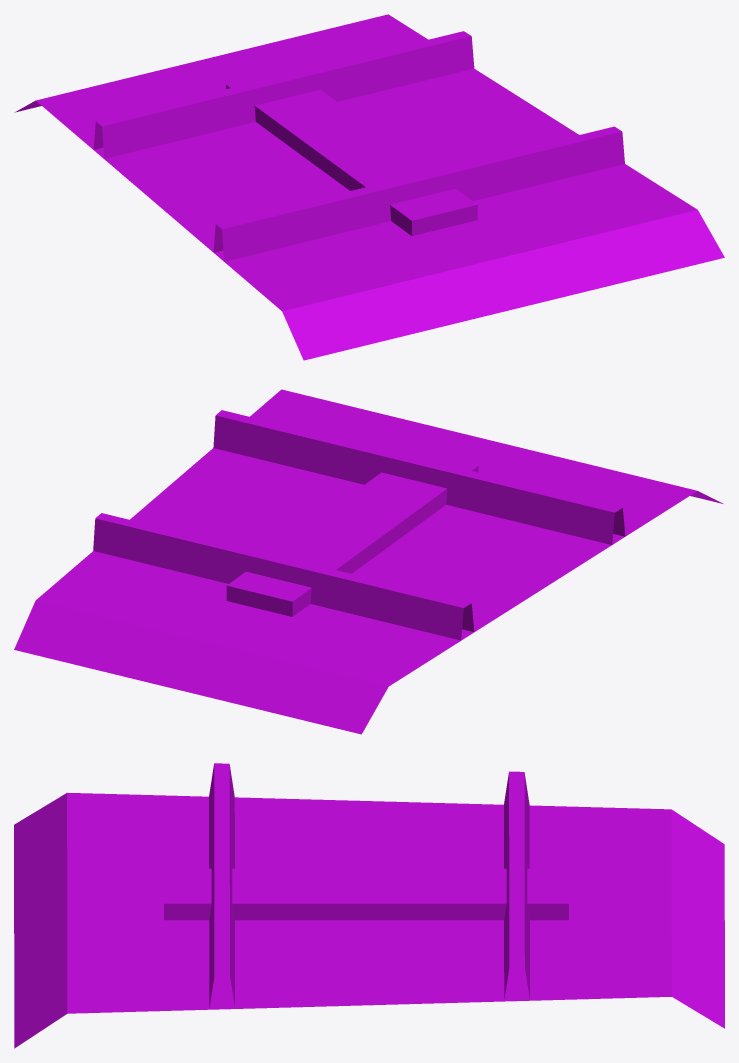
File: Track_Curve_Segment.FBX
3 views of the same model, one above another, from view 1: azimuth 30°, elevation 25°; view 2: azimuth 150°, elevation 25°; view 3: azimuth 270°, elevation 25° (orthographic). The views are drawn at different scales.
Parts seen in each view (by area): view 1: Ground, Rail_1, Rail_2, Sleeper; view 2: Ground, Rail_1, Rail_2, Sleeper; view 3: Ground, Sleeper, Rail_1, Rail_2.
Part boxes in pixels (box(x1,y1,x2,y2)): Ground: box(14, 14, 724, 360); Rail_1: box(213, 126, 624, 261); Rail_2: box(93, 31, 474, 158); Sleeper: box(226, 68, 477, 235); Ground: box(14, 389, 723, 734); Rail_1: box(213, 410, 625, 544); Rail_2: box(93, 513, 474, 640); Sleeper: box(226, 449, 478, 616); Ground: box(14, 792, 724, 1048); Sleeper: box(164, 868, 568, 920); Rail_1: box(209, 763, 234, 1008); Rail_2: box(504, 771, 529, 999).
Size of the model in its own units: 143 by 20 by 192.
